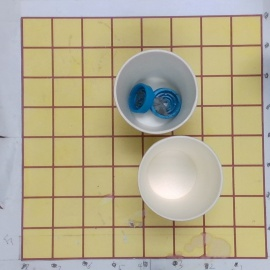cup: (138, 136, 223, 223)
cup_blue: (115, 49, 199, 135)
